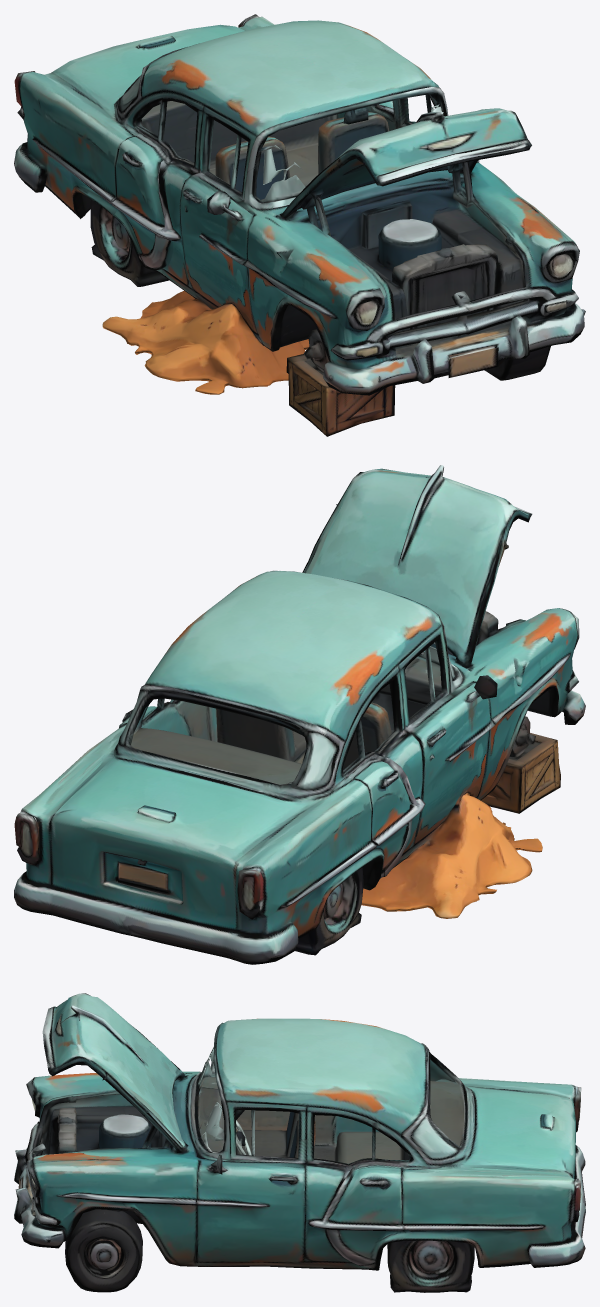
The model's file is wl_car_wreck.glb.
The picture shows the model from 3 angles, top to bottom: view 1: azimuth 30°, elevation 25°; view 2: azimuth 150°, elevation 25°; view 3: azimuth 270°, elevation 25°; orthographic projection. The views are drawn at different scales.
Parts seen in each view (by area): view 1: wl_car_wreck; view 2: wl_car_wreck; view 3: wl_car_wreck.
Boxes of the visible parts, x1,y1,x2,y2 form: wl_car_wreck: (14, 14, 585, 436); wl_car_wreck: (14, 465, 585, 964); wl_car_wreck: (14, 993, 585, 1292).
Size of the model in its own units: 0.5521 by 0.4657 by 0.9811.
1 material, 1 textured.
